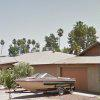Boat: (11, 66, 81, 99)
